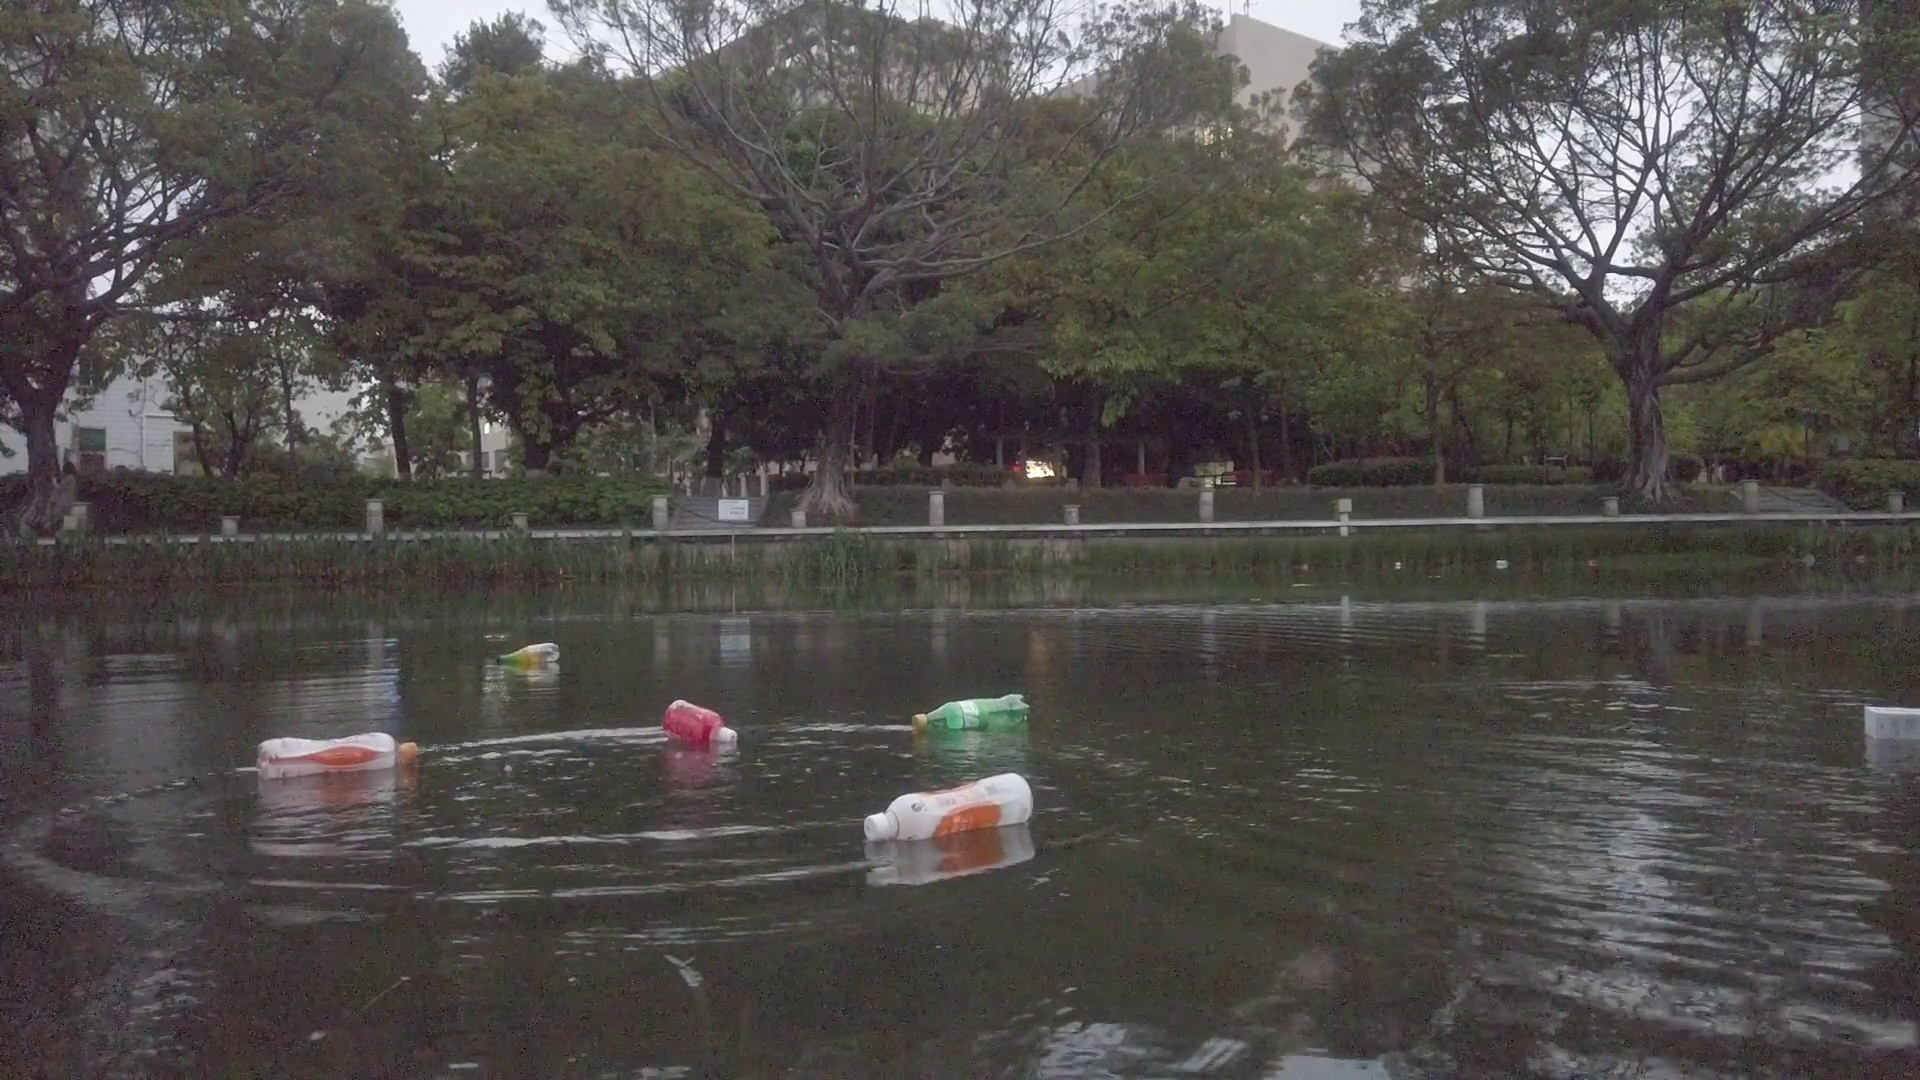bottle: (866, 774, 1036, 840), (256, 733, 417, 778), (913, 692, 1035, 735), (663, 696, 738, 752), (496, 640, 562, 671)
carton: (1865, 702, 1913, 748), (1495, 556, 1509, 568)
